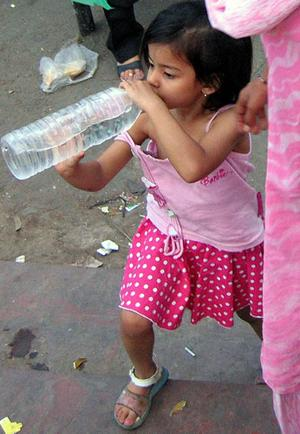person: (44, 3, 266, 434)
